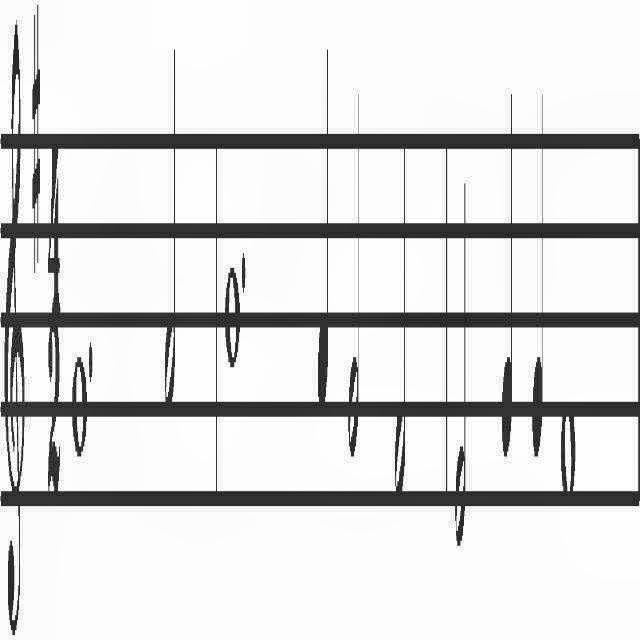Bass-clef: (3, 10, 24, 640)
Diez: (31, 0, 41, 276)
Full-note: (71, 344, 87, 464), (224, 256, 240, 376), (560, 400, 576, 496)
Half-note: (394, 120, 406, 508), (454, 162, 466, 550), (348, 79, 360, 462), (164, 39, 176, 414)
Quarter-note: (316, 22, 329, 426), (501, 80, 514, 468), (532, 82, 544, 464)
